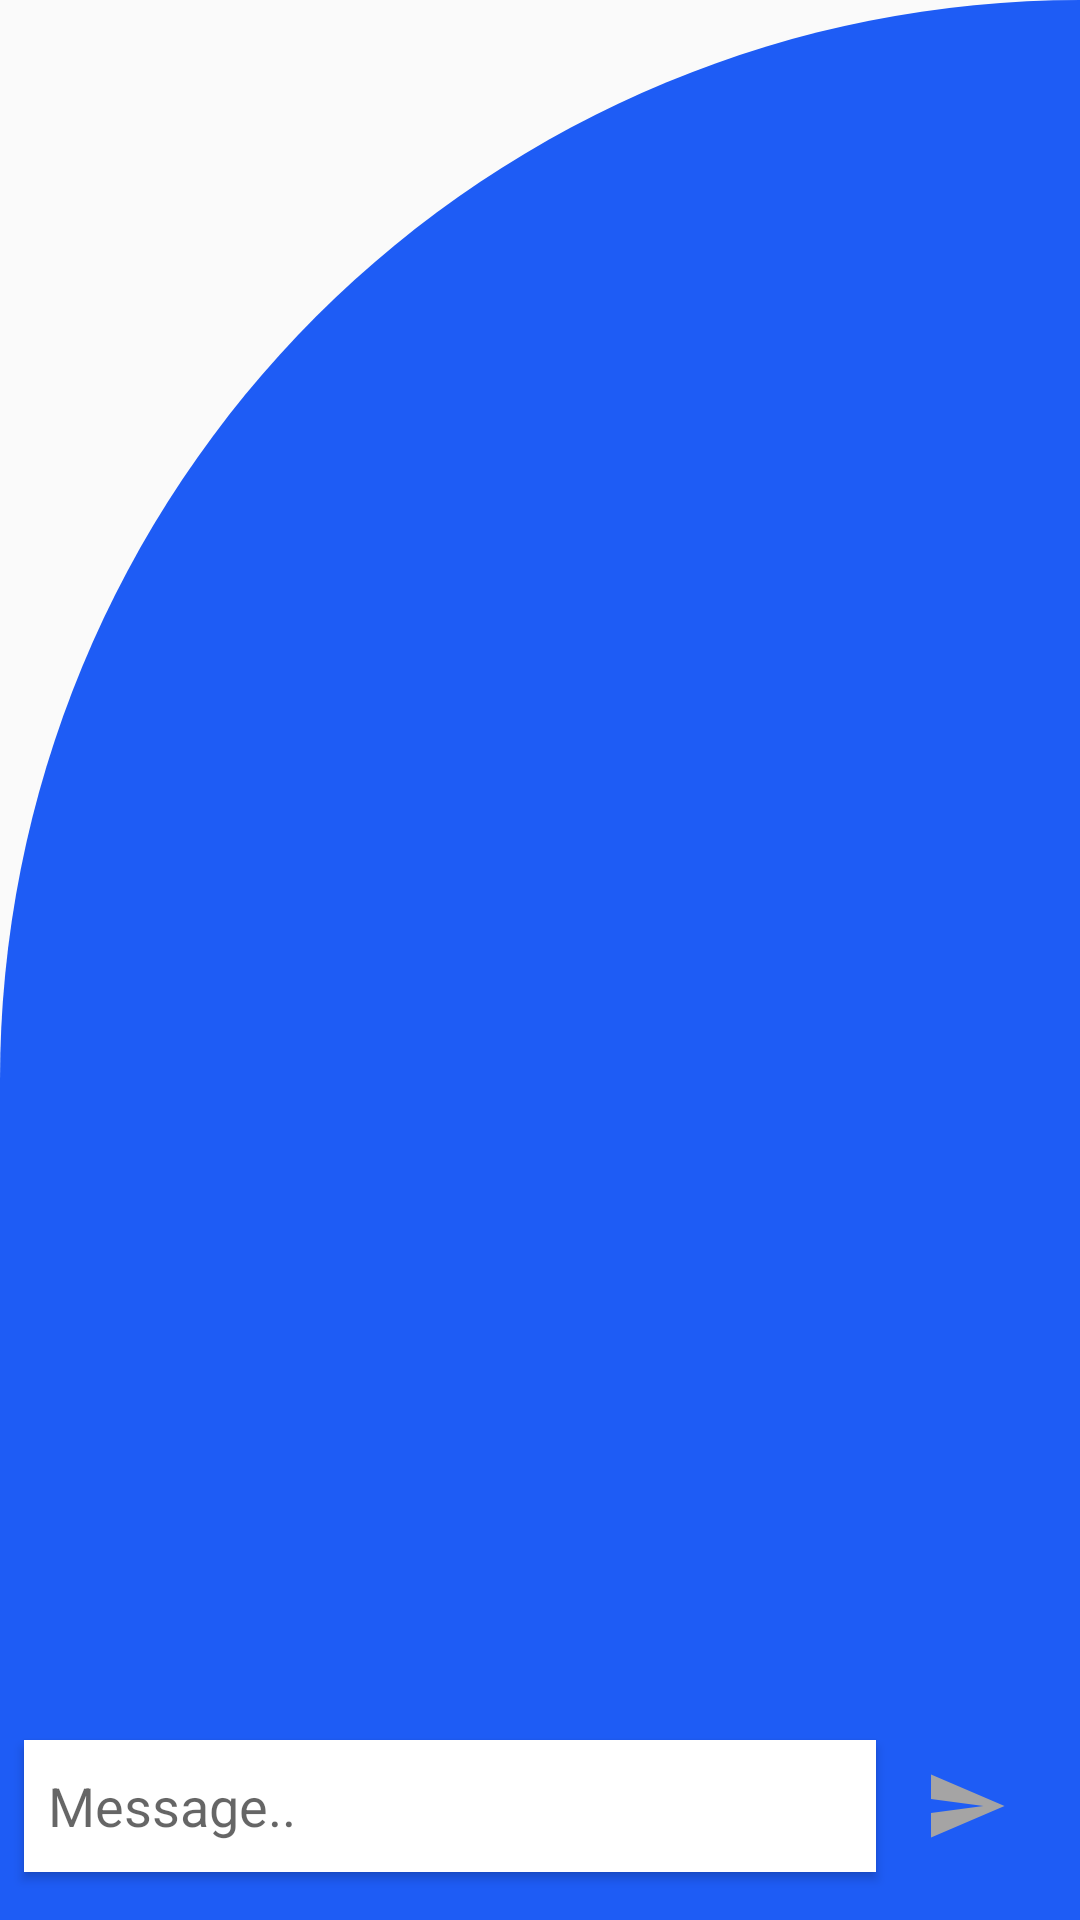

Screen size 1080*1920. Icon name, then its center in pixels as (x,y):
send unactive: (967,1806)
